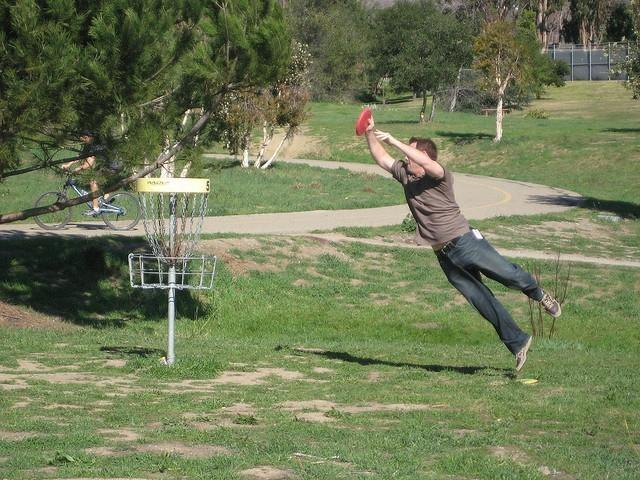bicycle: (33, 174, 142, 232)
